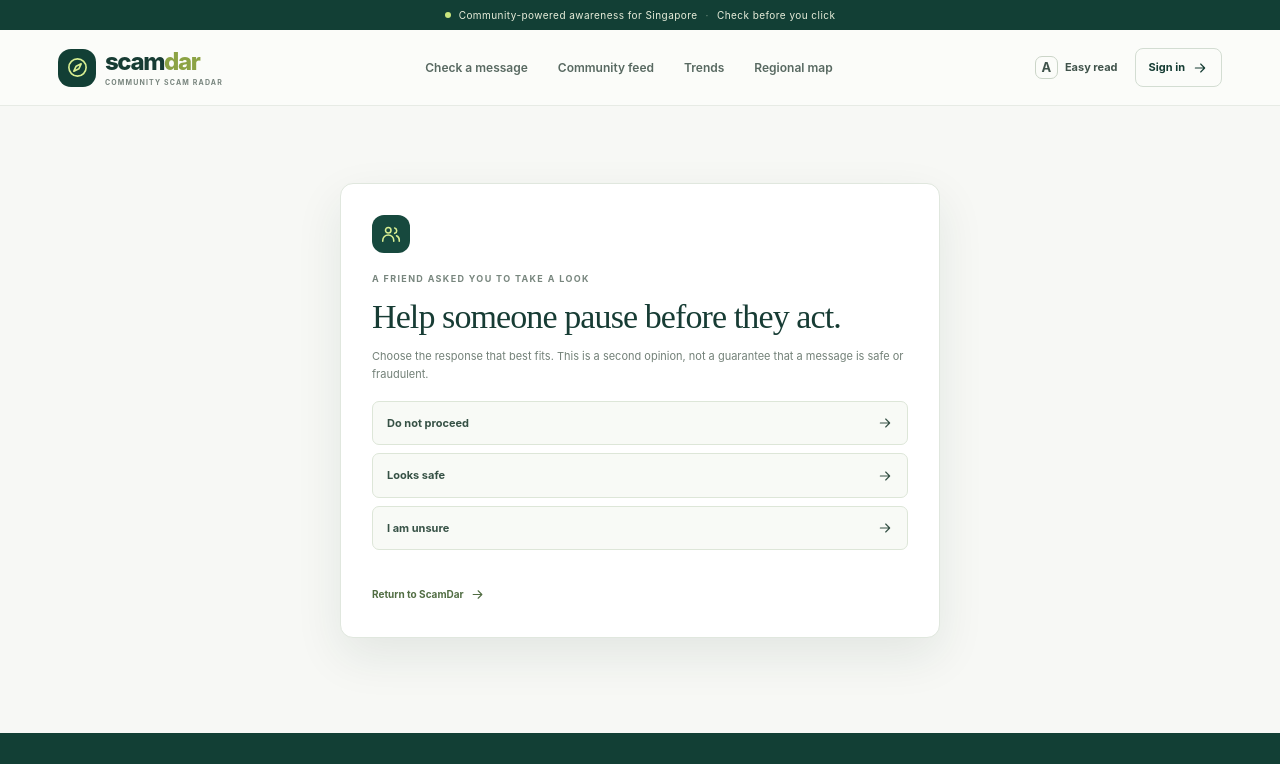
it: ScamDar main flows › lets a trusted contact send a response from a private link
Click the button "Do not proceed" at (428, 423), box [372,401,908,446]
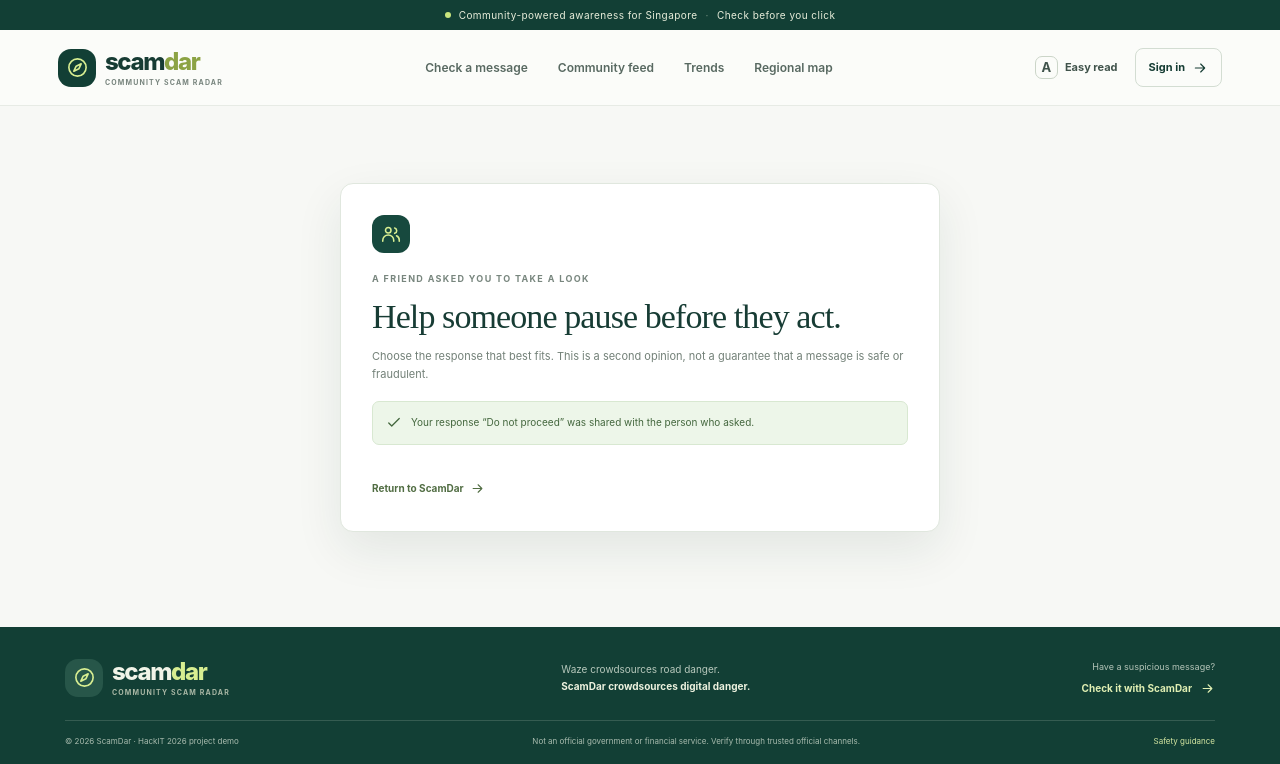
Result: the text "Your response “Do not proceed” was shared" is shown at [372,401,908,445]
